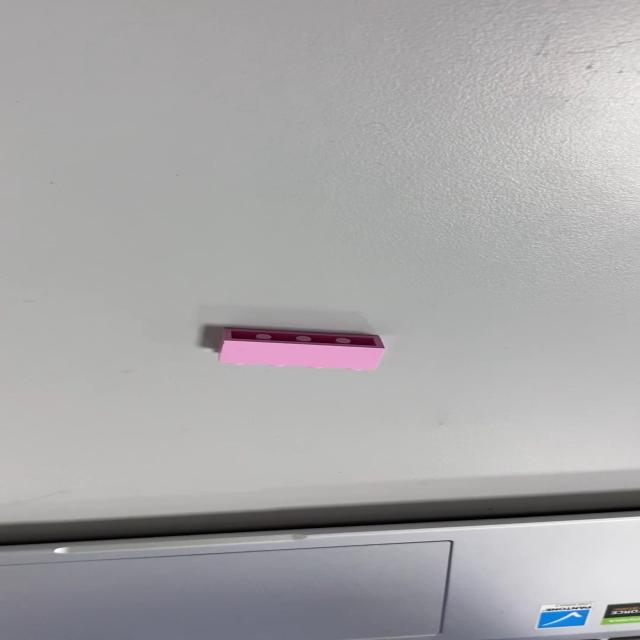C4x1x1: (216, 326, 386, 371)
